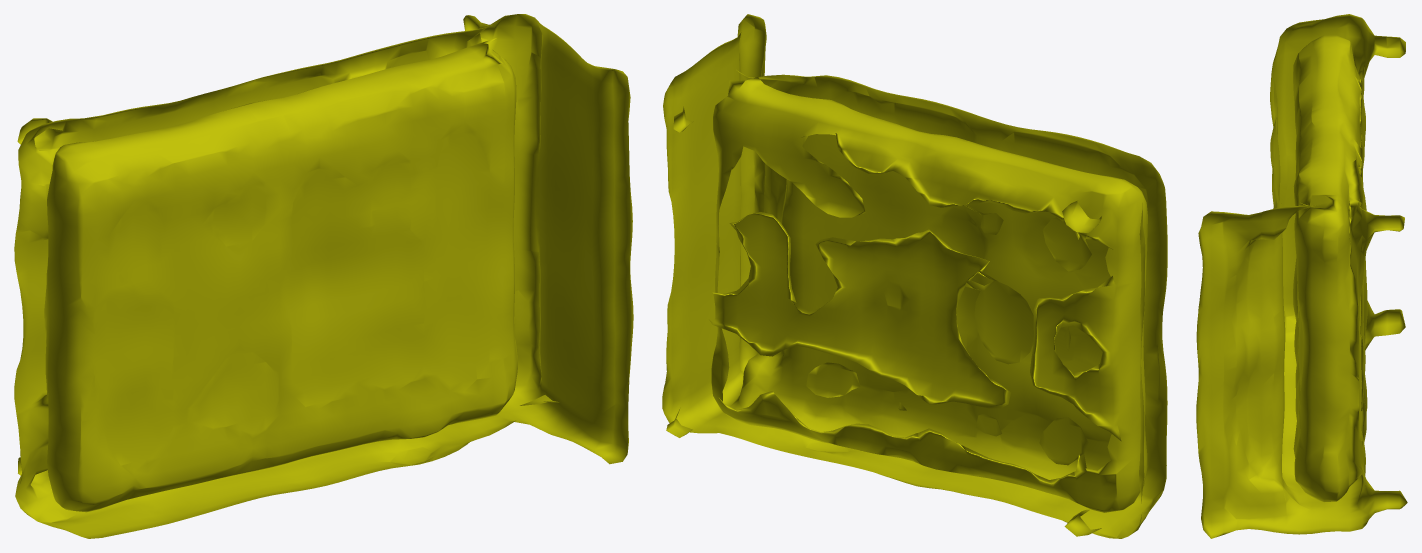
3 views of the same model, side by side, from view 1: azimuth 30°, elevation 25°; view 2: azimuth 150°, elevation 25°; view 3: azimuth 270°, elevation 25° (orthographic). The views are drawn at different scales.
Parts seen in each view (by area): view 1: world; view 2: world; view 3: world.
Part boxes in pixels (<box>): world: <box>14,14,633,538</box>; world: <box>662,14,1167,538</box>; world: <box>1196,14,1407,538</box>.
Bounding box in the file's own units: 39.94 × 28.93 × 16.82.
